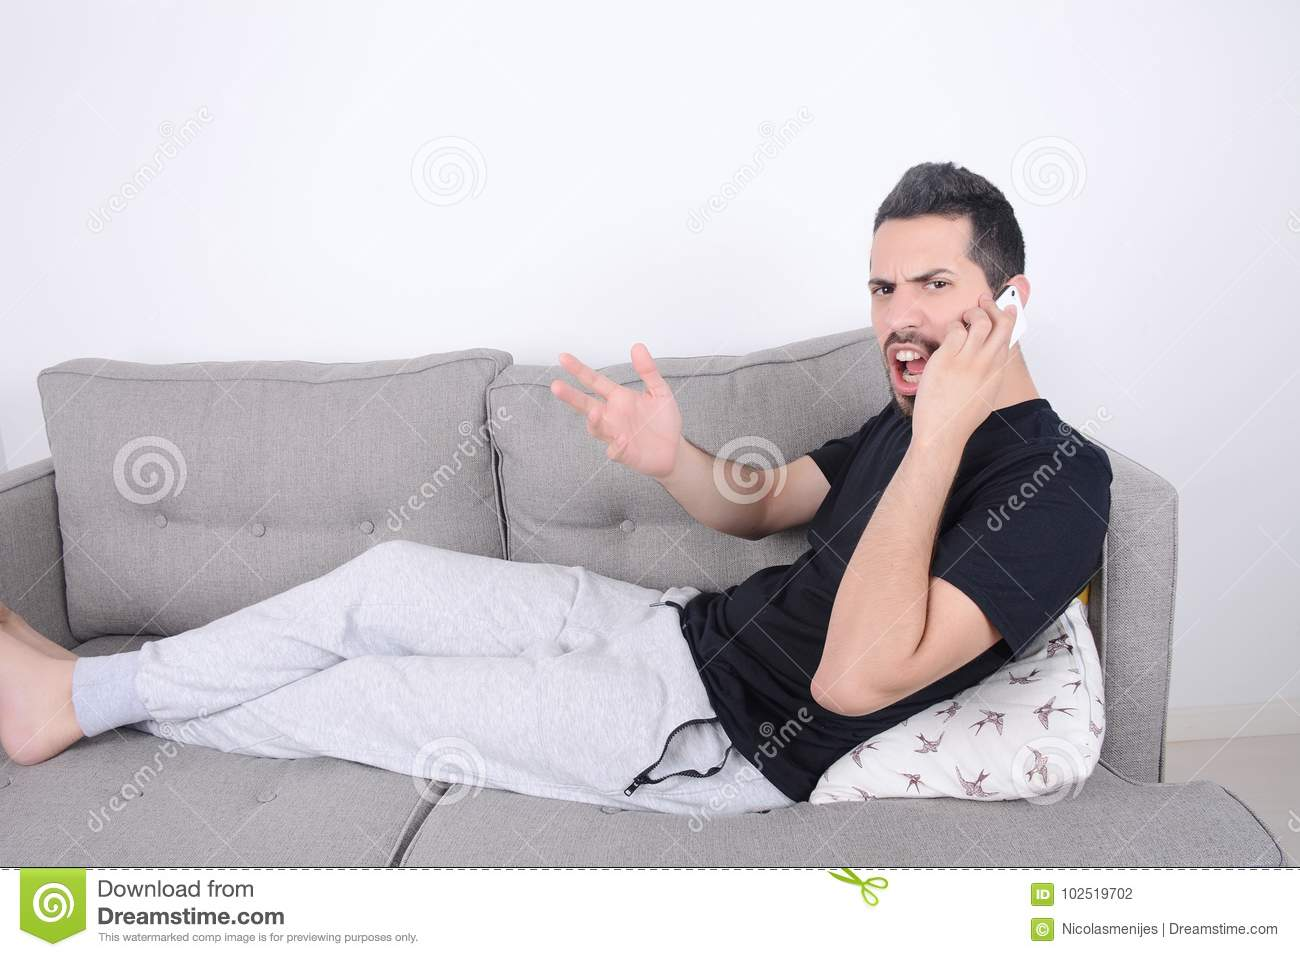phone: (945, 291, 1027, 362)
talk: (867, 263, 1030, 453)
